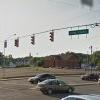Traffic light: (9, 31, 60, 55)
